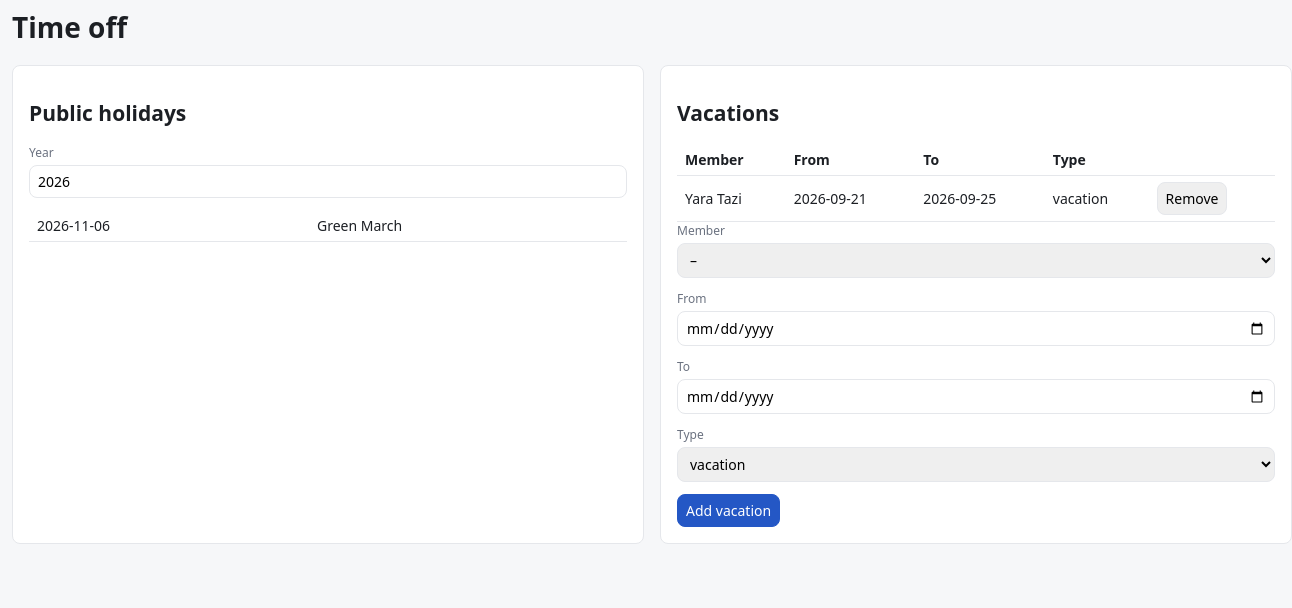
TimeOff › lists holidays and vacations, validates and adds a vacation
Later steps or results of the test are not shown.
Expected: the text "Green March" is shown, [309,210,627,242]
Expected: the text "2026-09-21" is shown, [786,176,915,222]
Select "Ali Benjelloun" in the dropdown labelled "Member". click: (976, 261)
box: [677,243,1275,278]
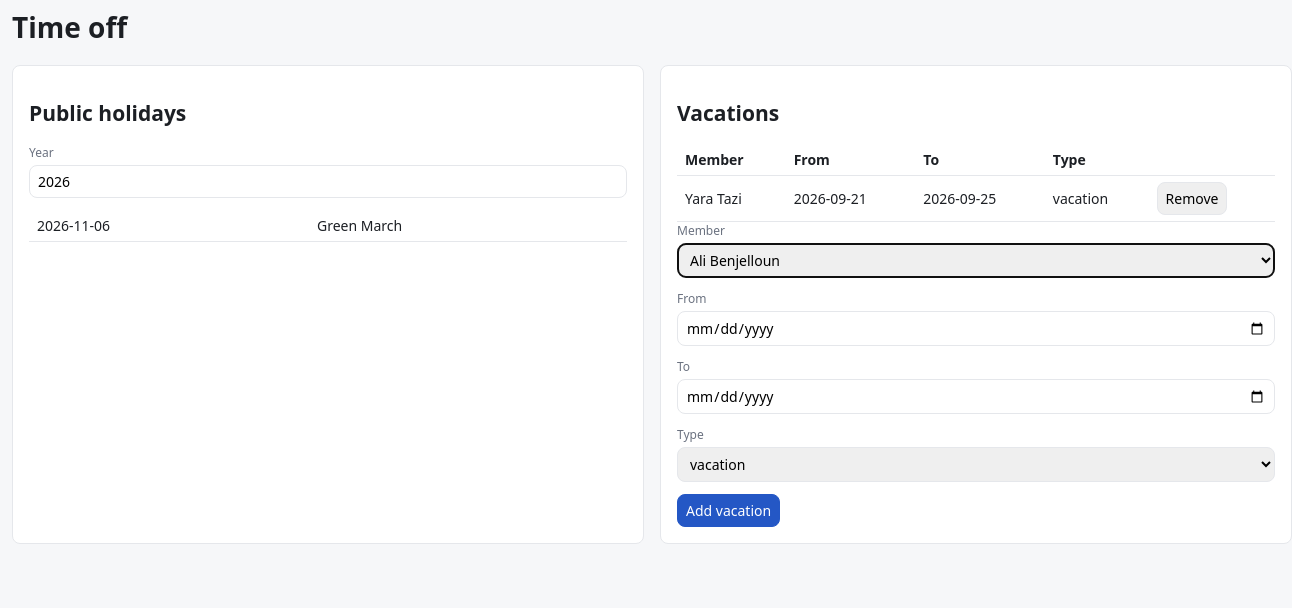
Type "2026-10-12" into the date field labelled "From". click: (976, 329)
box: [677,311,1275,346]
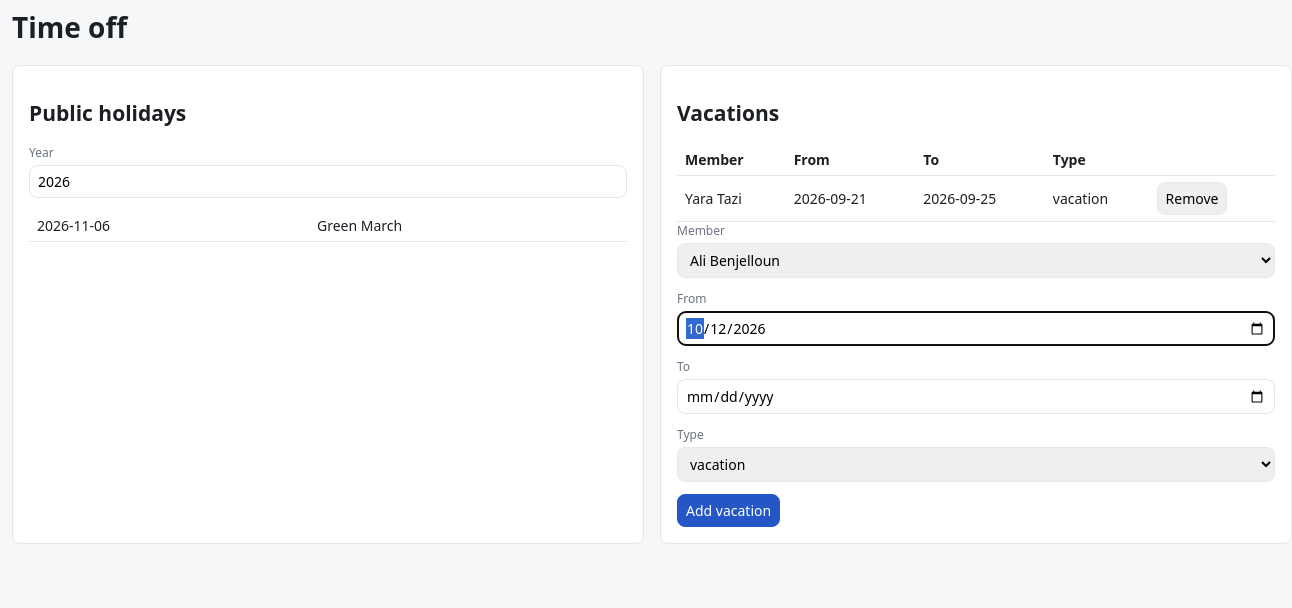
Type "2026-10-09" into the date field labelled "To". click: (976, 397)
box: [677,379,1275,414]
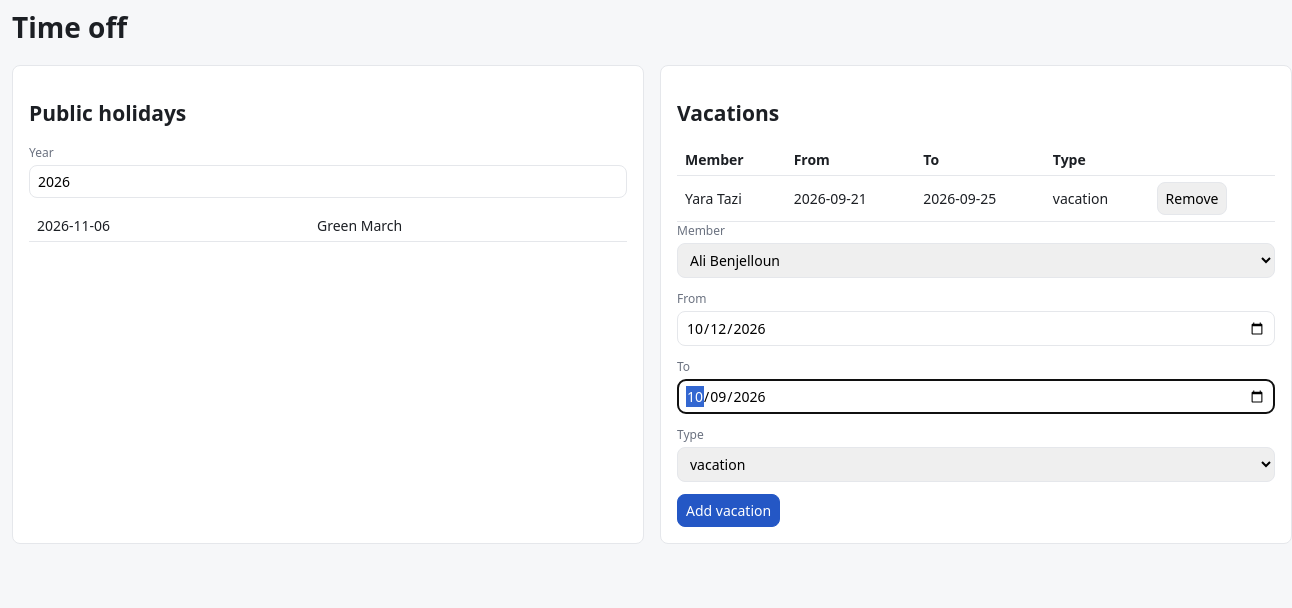
Click the button "Add vacation". click: (729, 511)
box: [677,494,780,527]
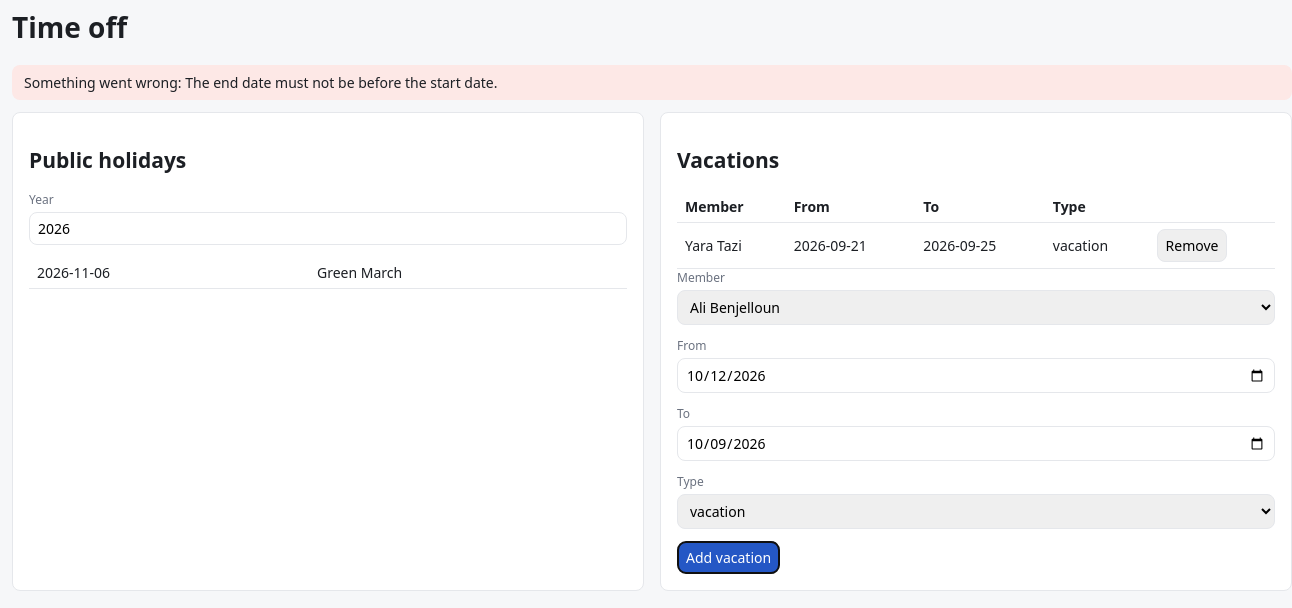
Now the text "Something went wrong: The end date must not be before the start date." is shown, box [12,64,1291,100]
Type "2026-10-16" into the date field labelled "To". click: (976, 444)
box: [677,426,1275,461]
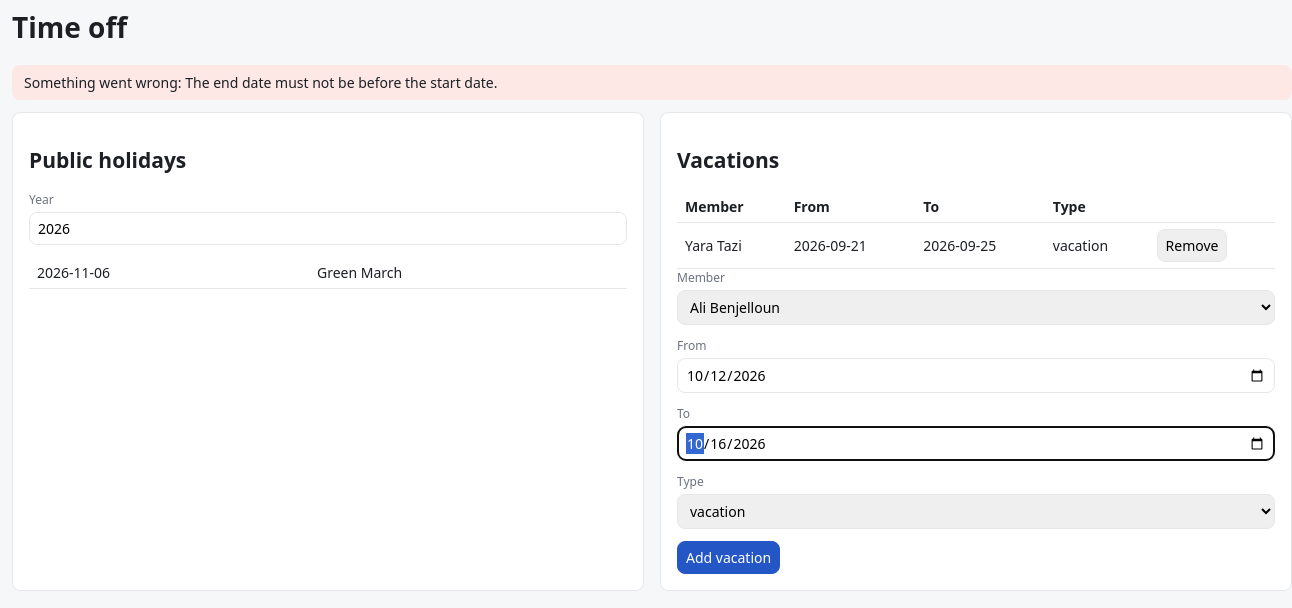
Click the button "Add vacation". click: (729, 558)
box: [677,541,780,574]
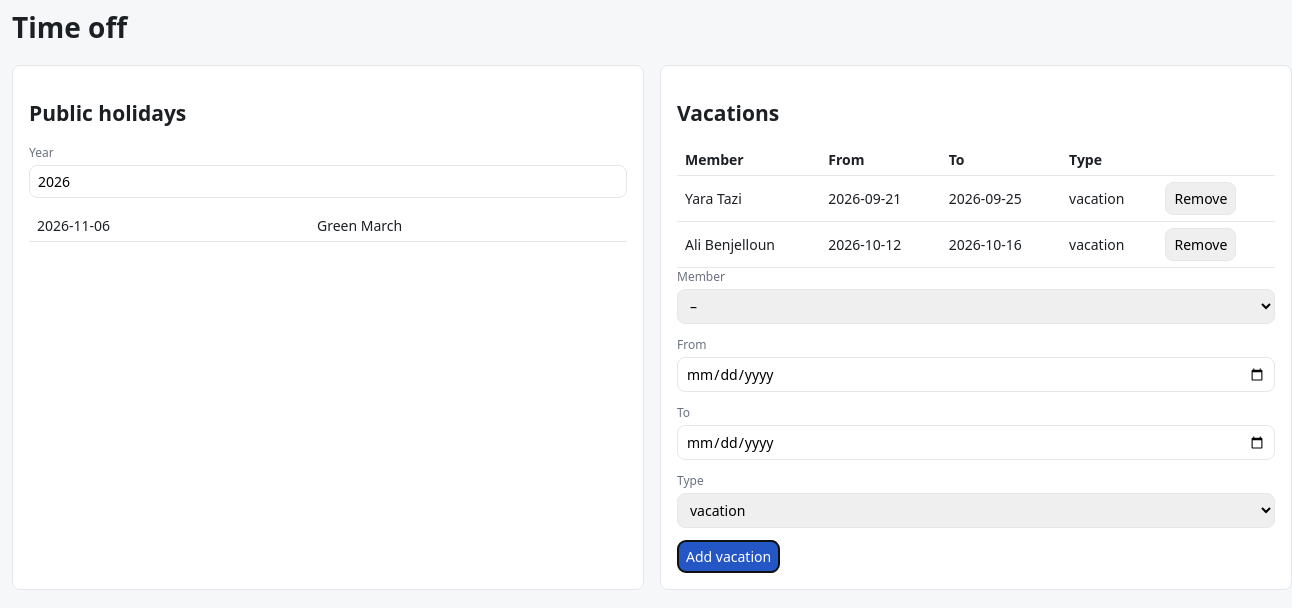
Now the text "2026-10-12" is shown, box [820,222,941,268]
